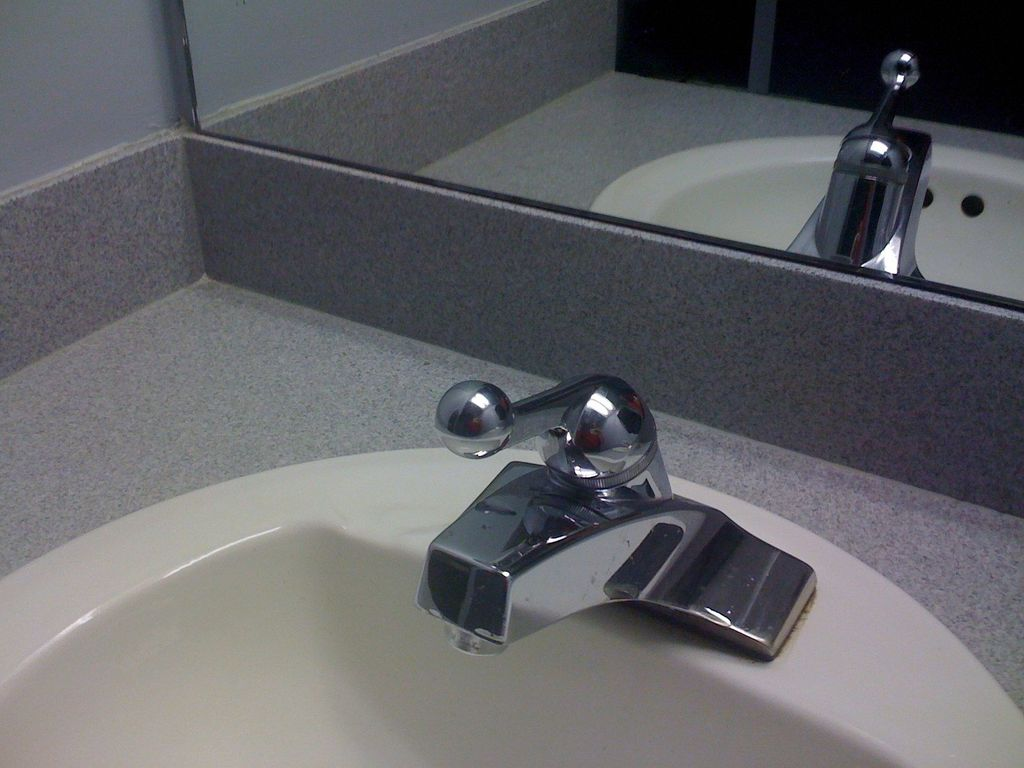tap: (413, 371, 819, 666)
